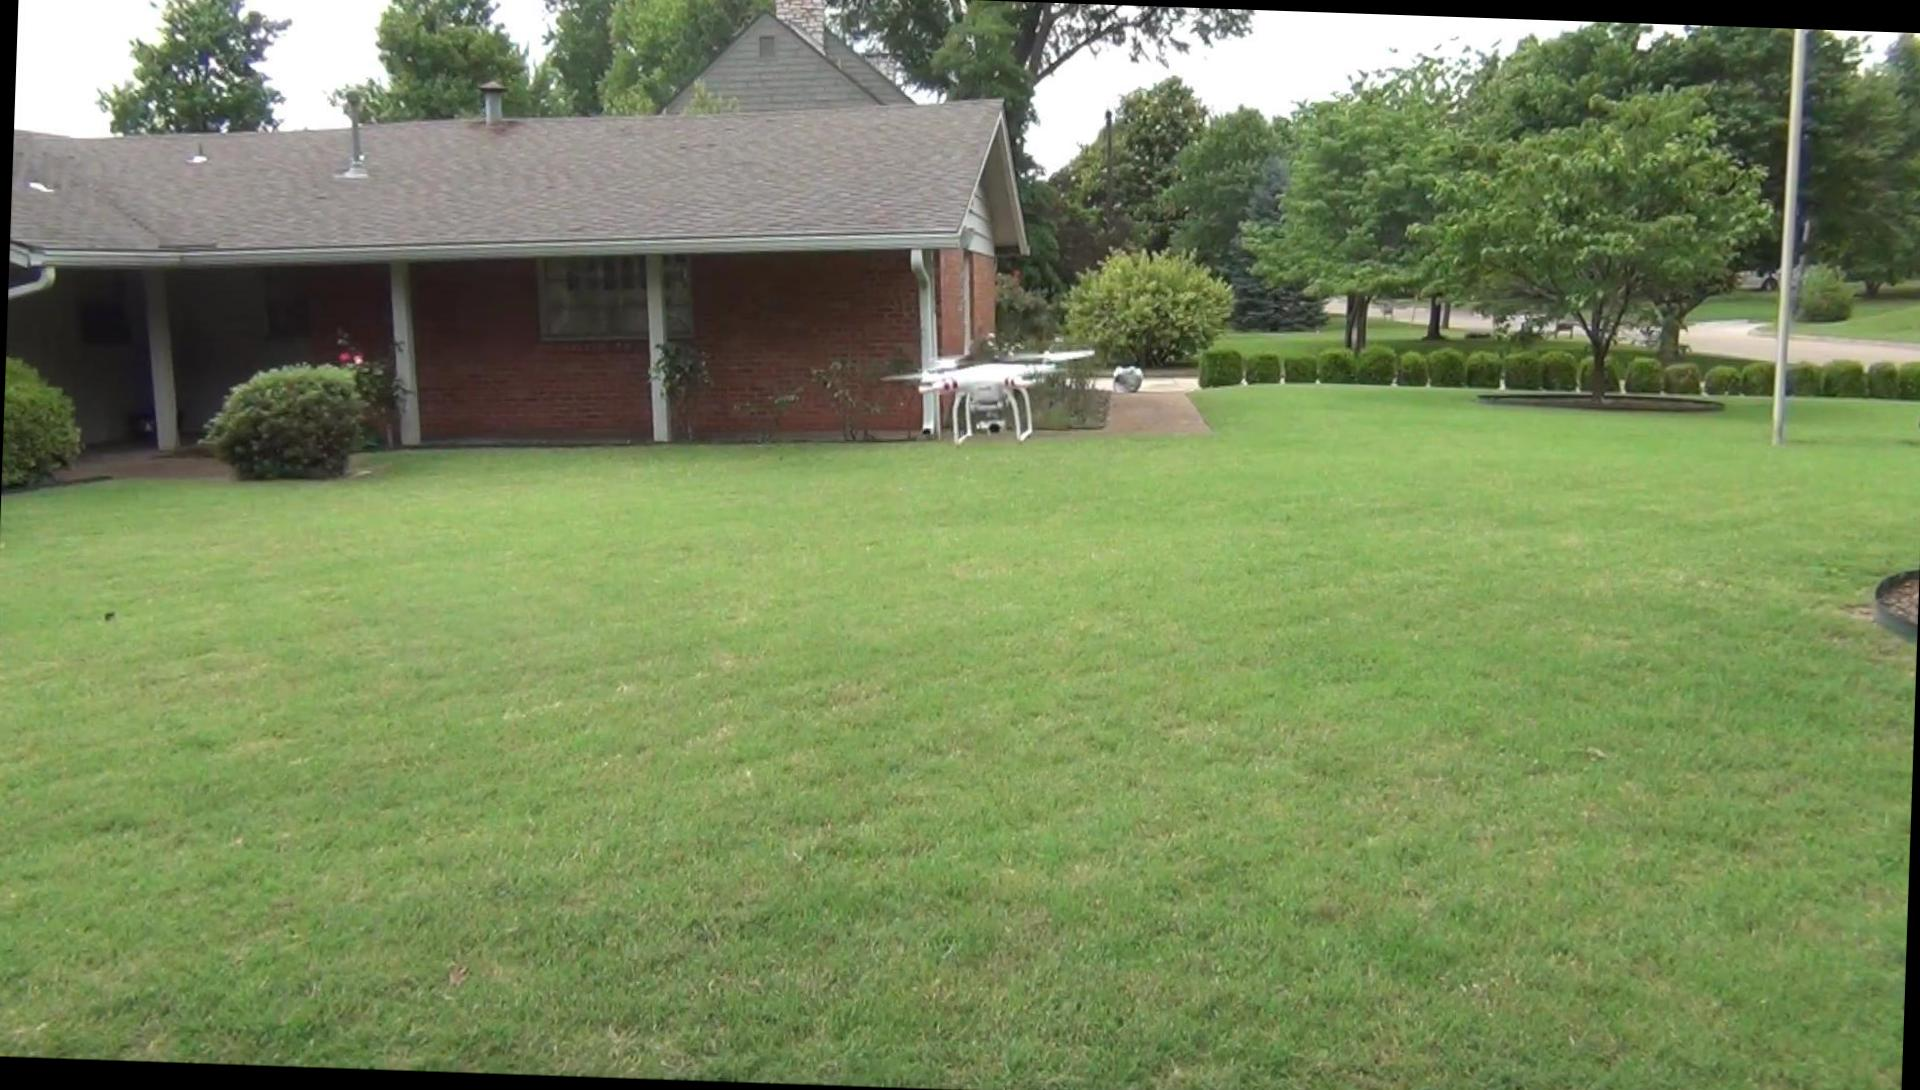drone: (895, 337, 1091, 447)
